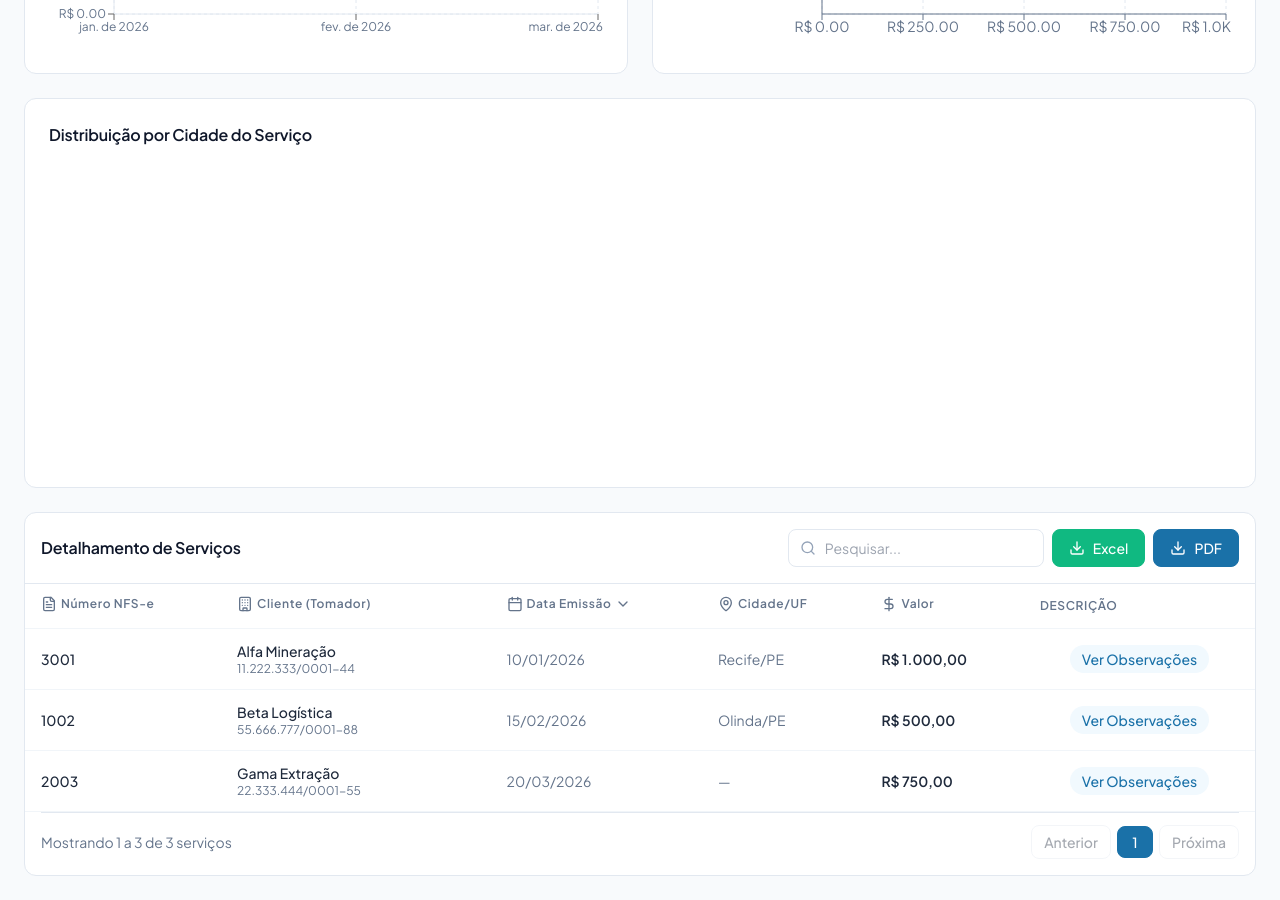
Test: tabela de Serviços › clicar em Ver Observações na linha 3001 abre o modal com a discriminacao dela
The width and height of the screenshot is (1280, 900).
(page scrolled)
Click the button "Ver Observações" in the row of "3001" at (1140, 659), box x1=1070 y1=645 x2=1209 y2=673
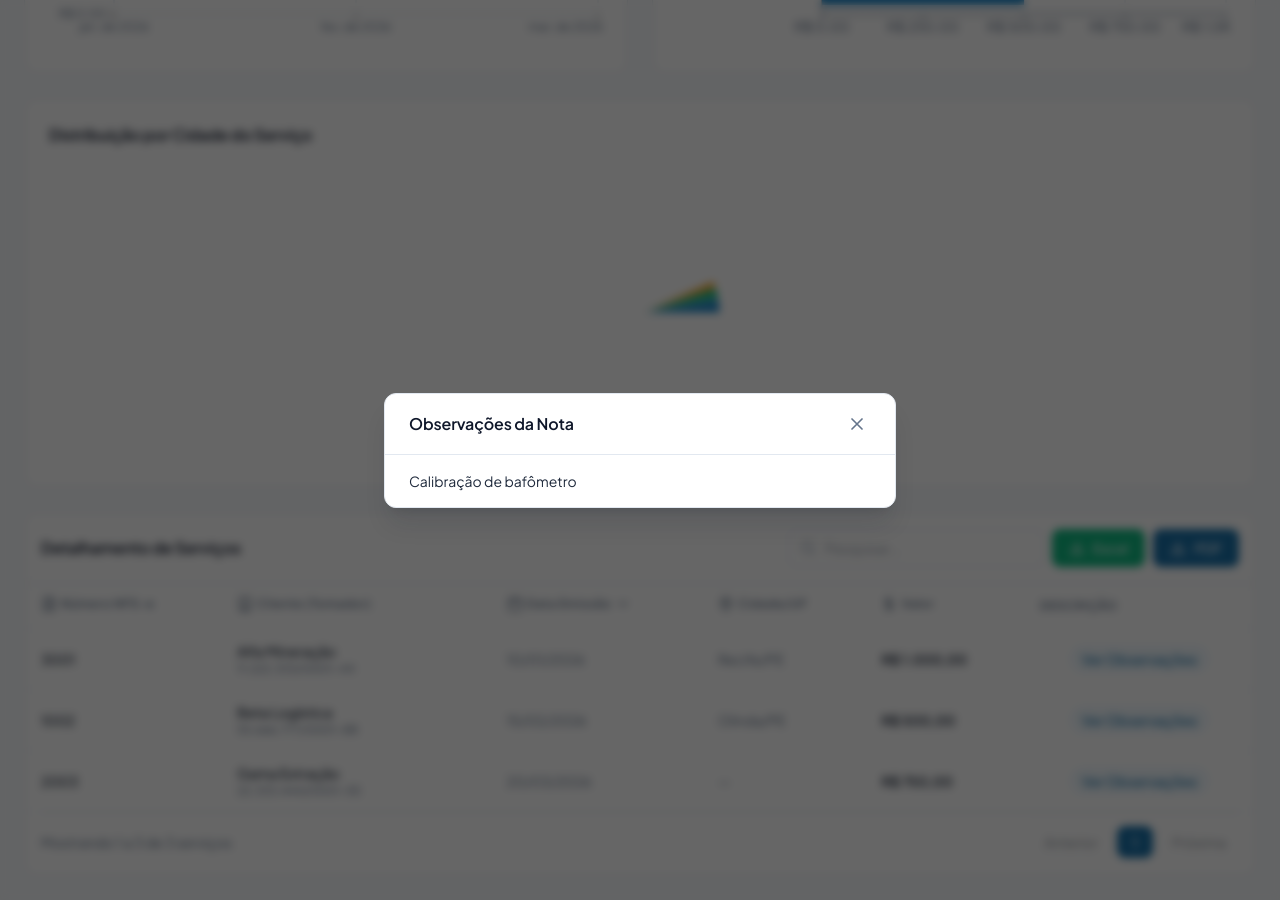
Result: the heading "Observações da Nota" is shown at x1=409 y1=412 x2=574 y2=436
Result: the text "Calibração de bafômetro" is shown at x1=409 y1=472 x2=577 y2=490
